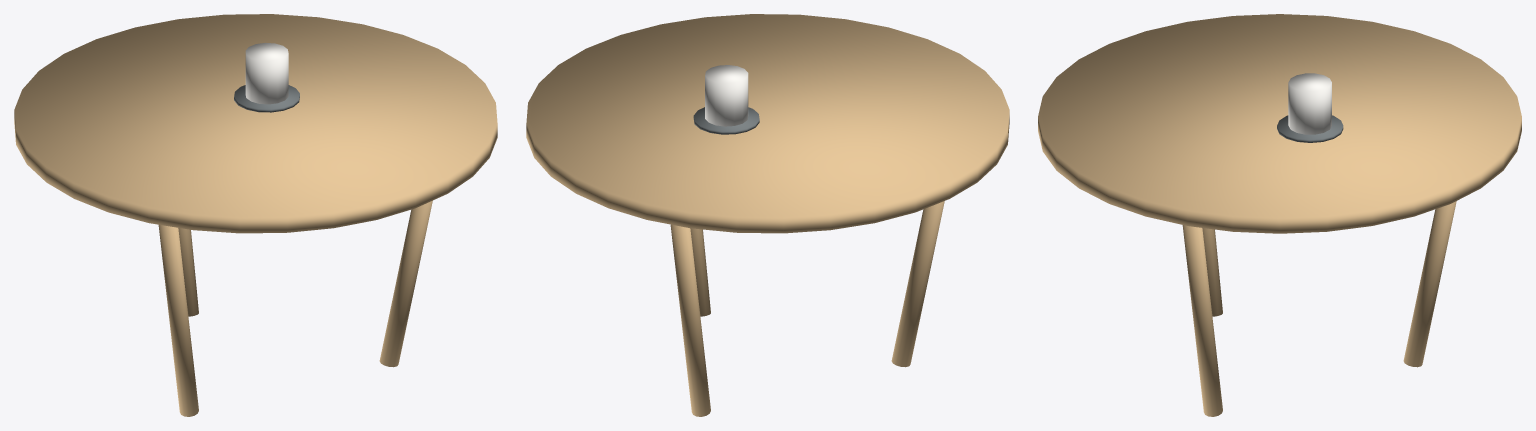
The model's file is lounge.coffee-table.glb.
3 views of the same model, side by side, from view 1: azimuth 30°, elevation 25°; view 2: azimuth 150°, elevation 25°; view 3: azimuth 270°, elevation 25° (orthographic).
Parts seen in each view (by area): view 1: lounge.coffee-table; view 2: lounge.coffee-table; view 3: lounge.coffee-table.
Part boxes in pixels (<box>): lounge.coffee-table: <box>14,14,497,416</box>; lounge.coffee-table: <box>526,14,1009,416</box>; lounge.coffee-table: <box>1038,14,1521,416</box>.
Bounding box in the file's own units: 0.8 × 0.538 × 0.8.
